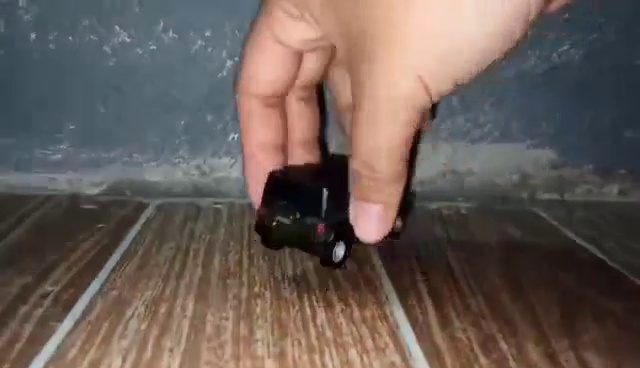car: (253, 160, 420, 273)
hand: (233, 1, 585, 241)
